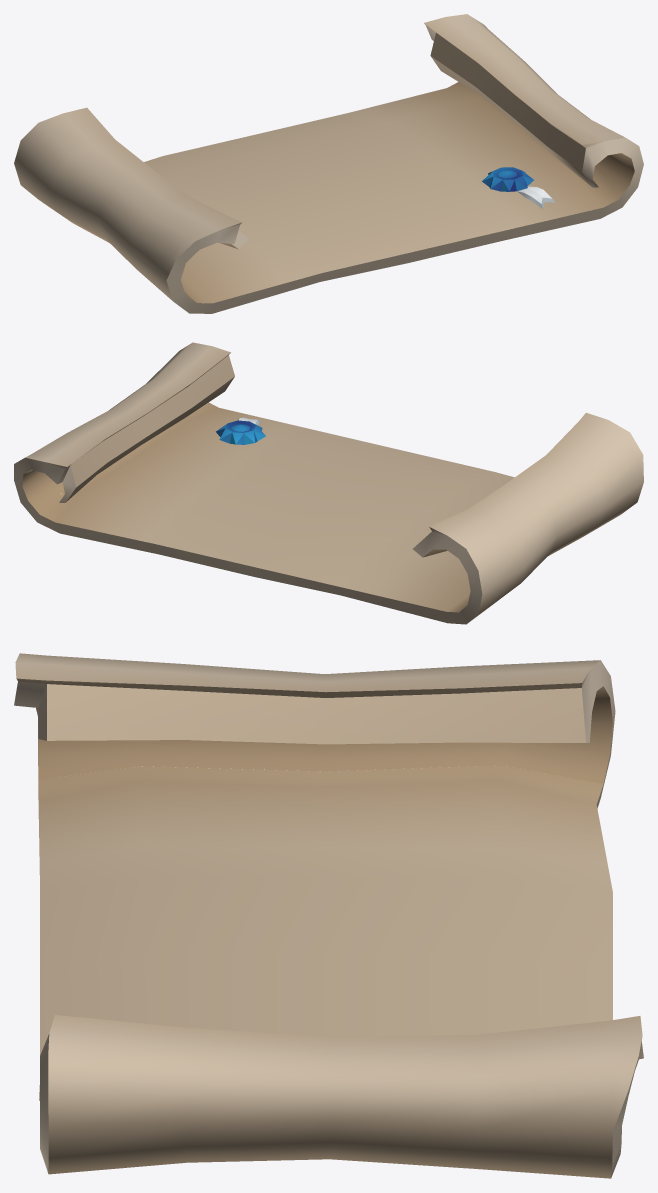
File: map_empty.glb
3 renders of one model, top to bottom at view 1: azimuth 30°, elevation 25°; view 2: azimuth 150°, elevation 25°; view 3: azimuth 270°, elevation 25°, orthographic. The views are drawn at different scales.
Visible parts, largest first — view 1: map_empty; view 2: map_empty; view 3: map_empty.
Part boxes in pixels (x1,y1,x2,y2): map_empty: (14, 14, 643, 313); map_empty: (14, 342, 643, 624); map_empty: (14, 653, 643, 1178).
Bounding box in the file's own units: 1.16 × 0.2129 × 0.7305.
2 materials, 2 textured.
